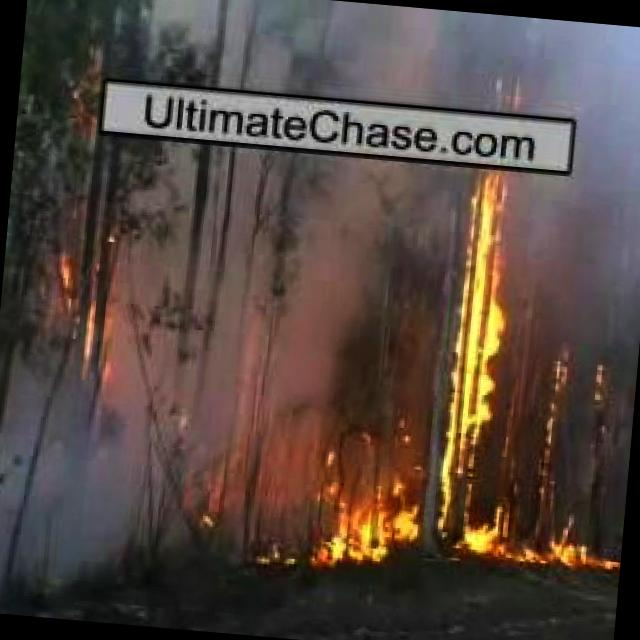fire: (440, 80, 515, 524), (296, 444, 428, 564), (36, 237, 132, 390), (469, 524, 618, 575), (54, 43, 115, 144), (534, 351, 576, 494), (584, 368, 610, 430)
